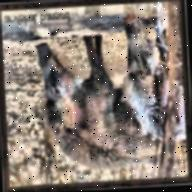boar: (30, 23, 143, 172), (109, 7, 191, 150)
